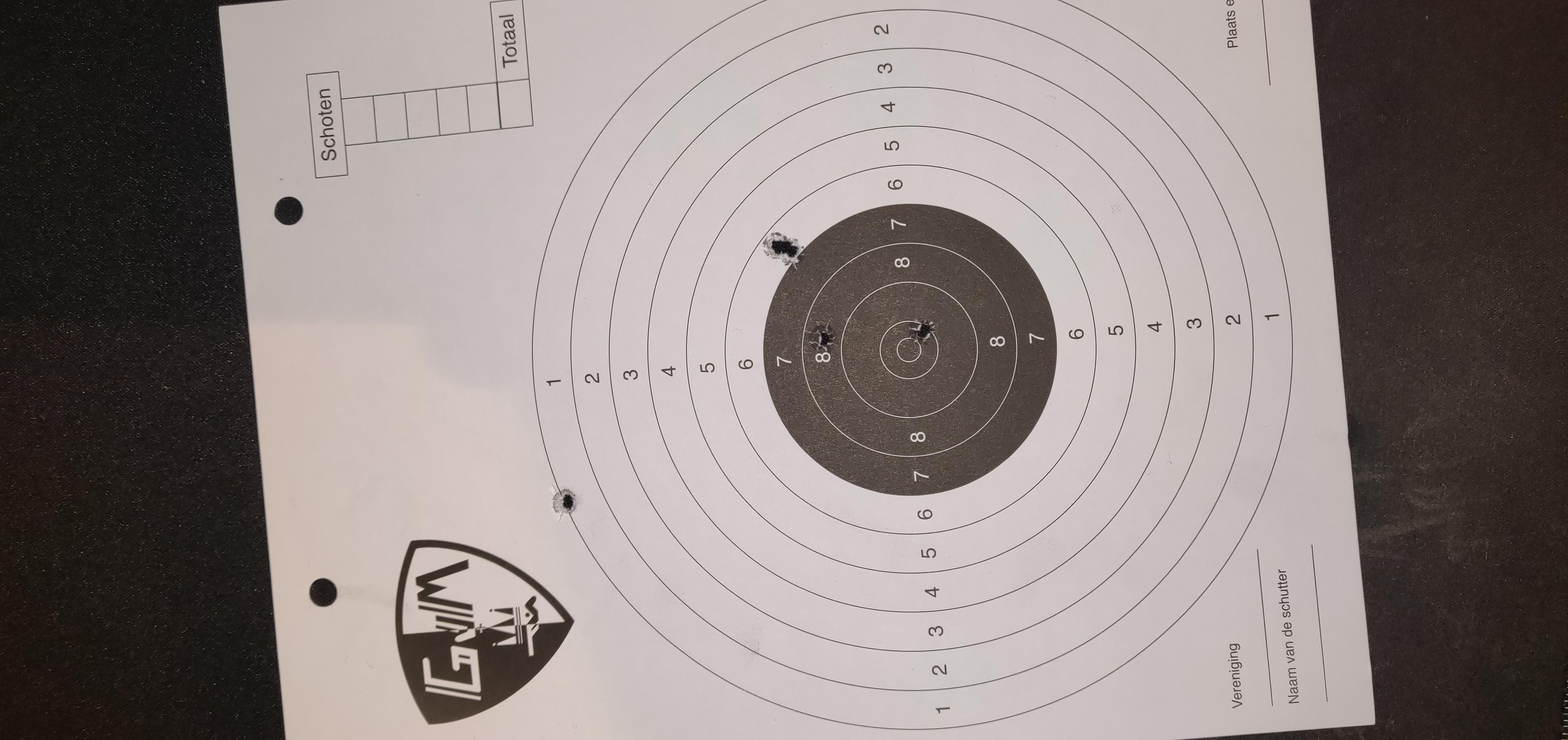hole: (467, 259, 538, 274), (821, 381, 884, 395), (835, 428, 897, 442), (1008, 359, 1080, 369), (1009, 369, 1070, 379)
